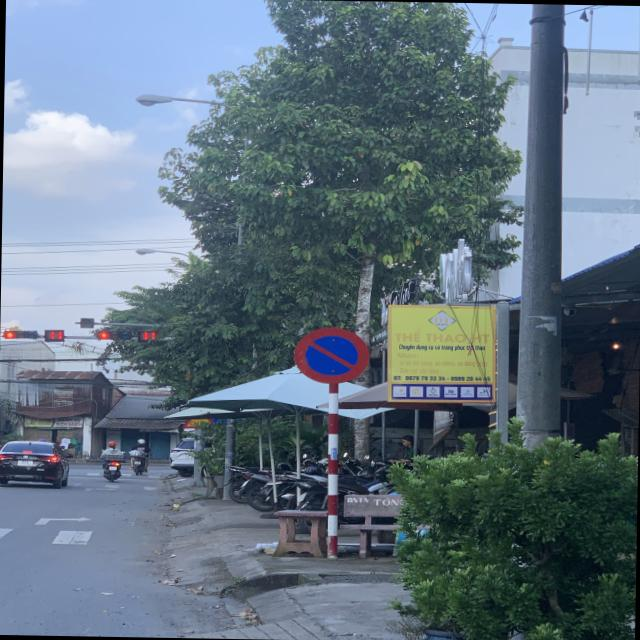Cam_Dau_Xe: (294, 327, 370, 382)
